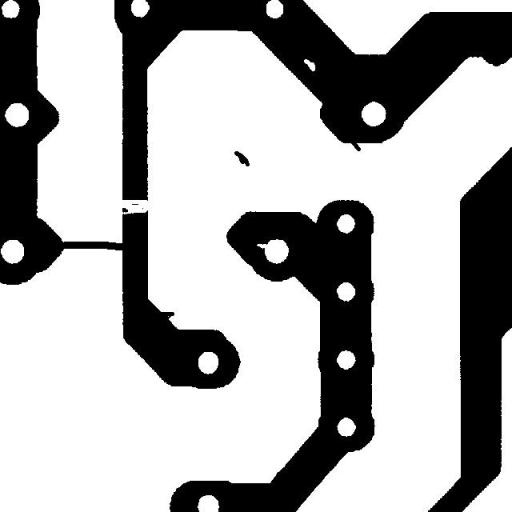copper: (226, 143, 257, 174)
mousebite: (249, 236, 274, 256)
open: (110, 192, 156, 222)
pin-hole: (296, 52, 322, 78)
short: (54, 234, 132, 258)
spur: (338, 130, 368, 158), (151, 304, 182, 330)
